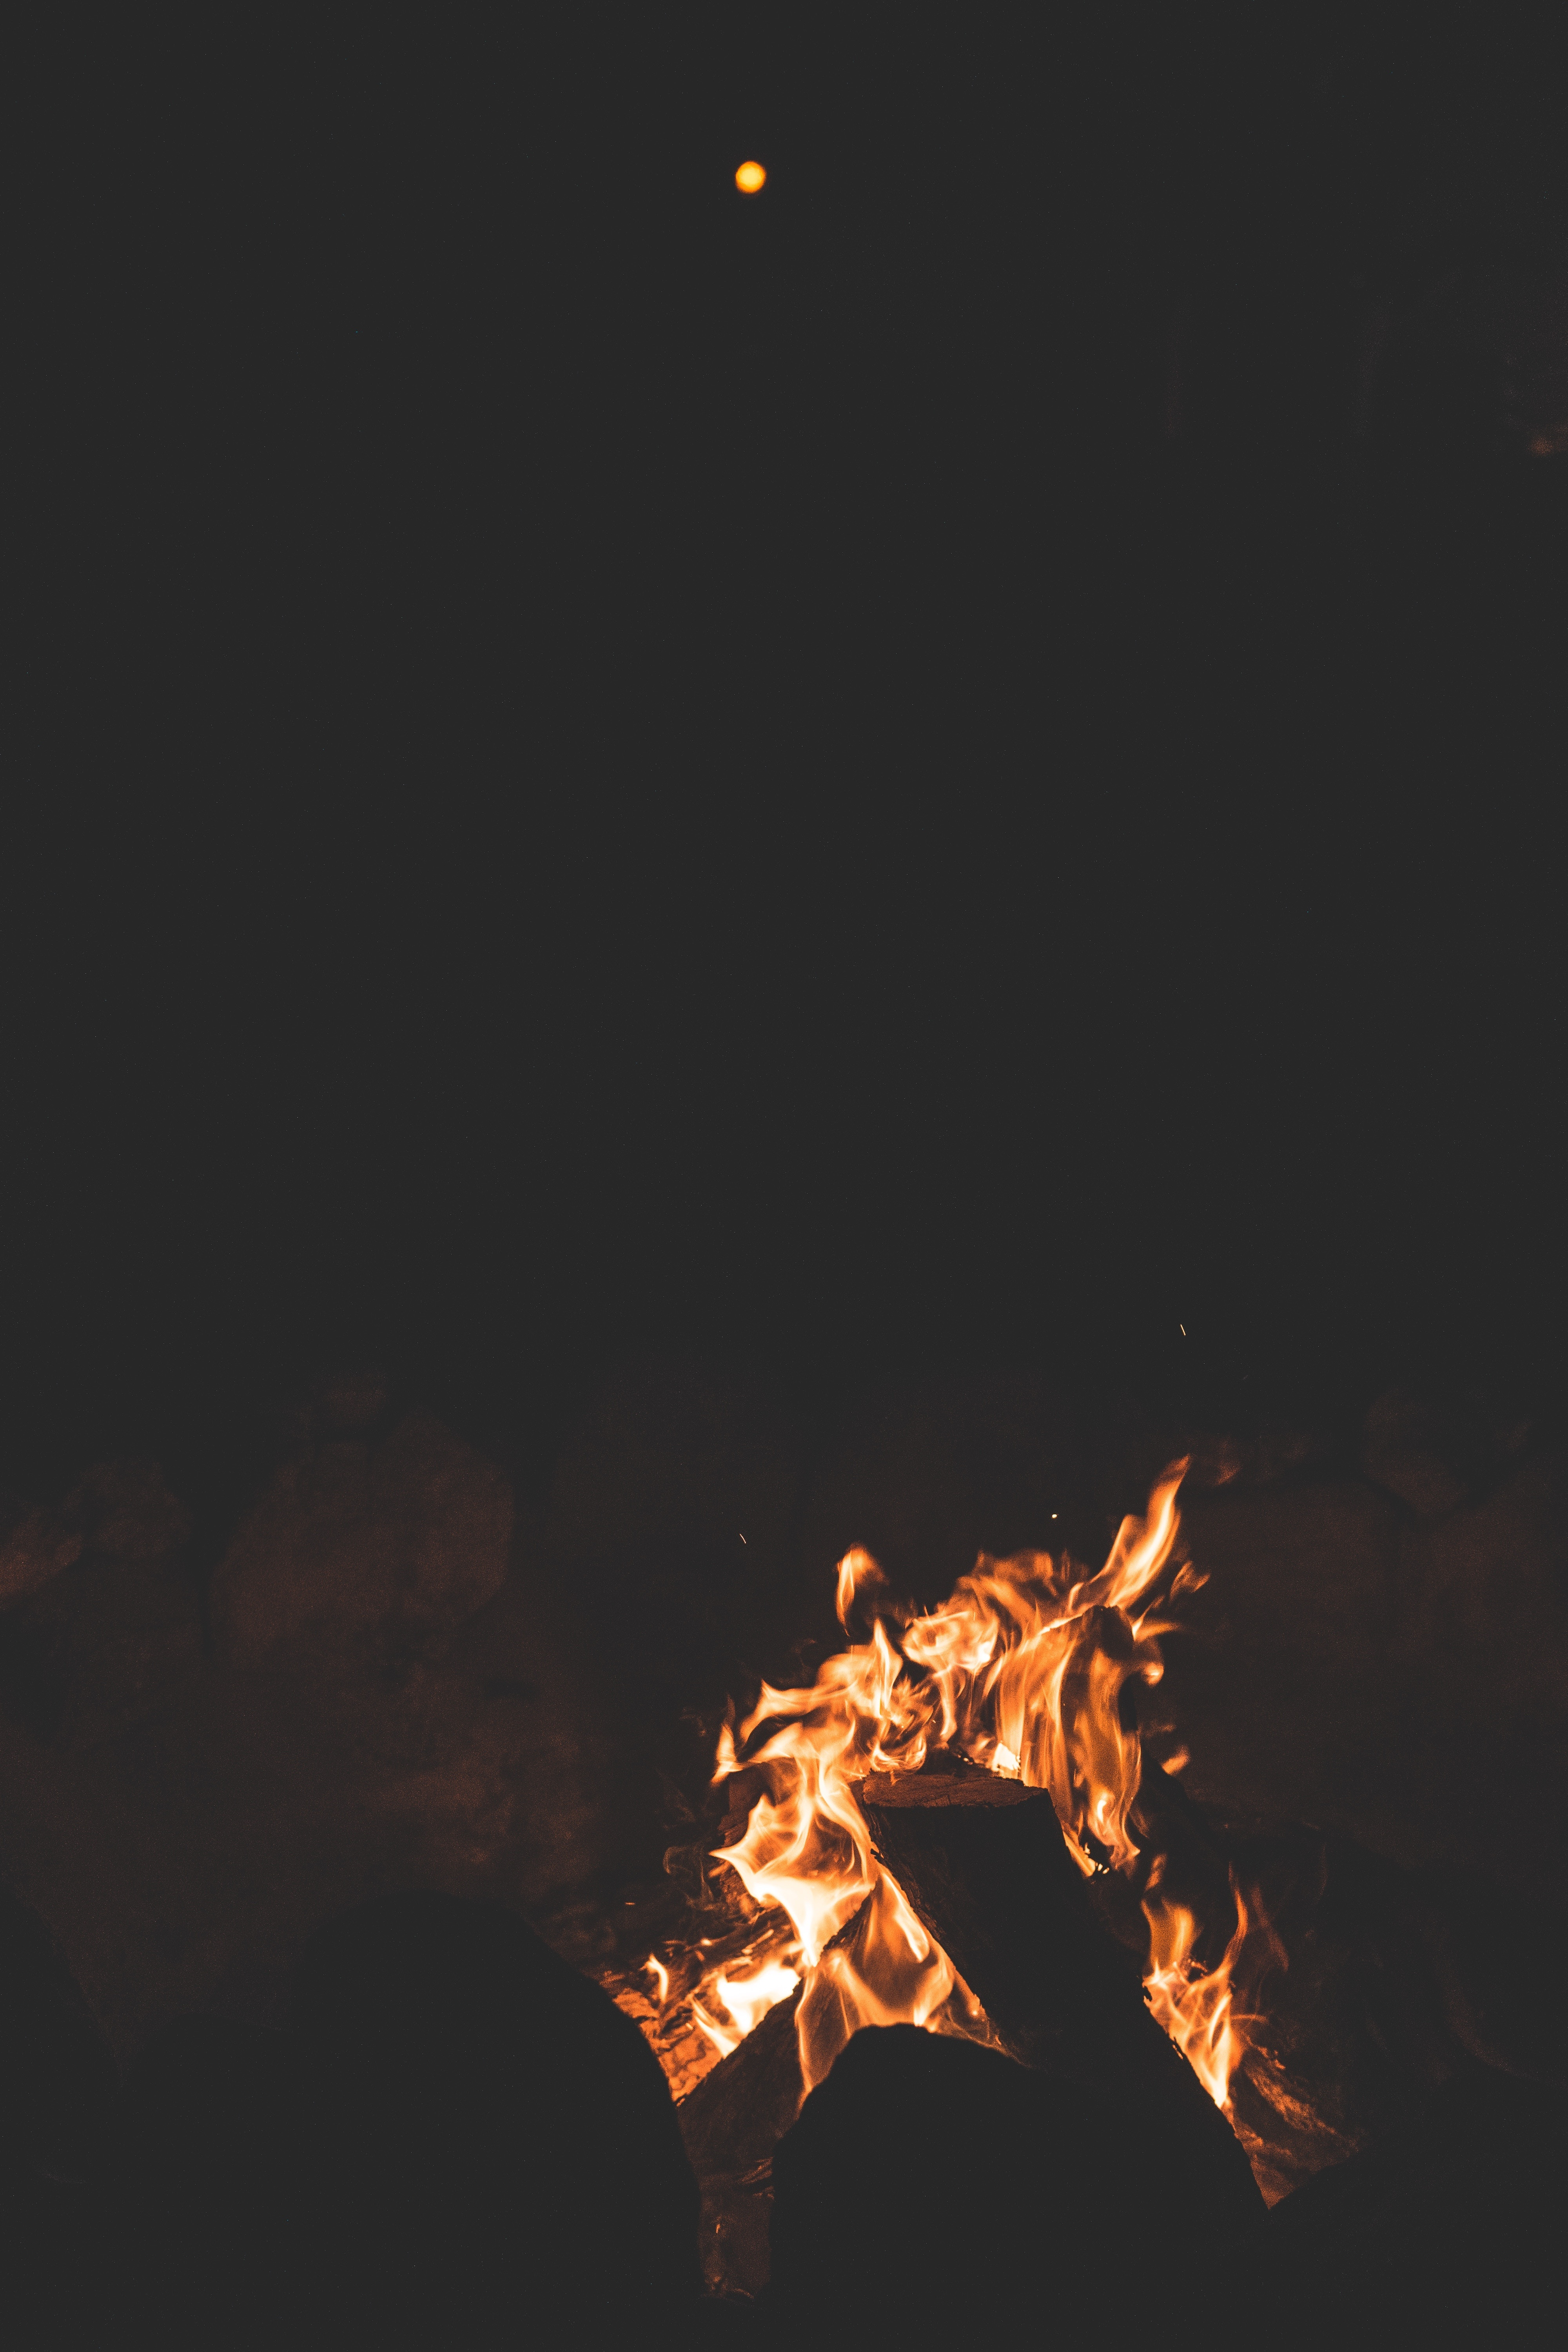fire: (611, 1458, 1333, 2158)
